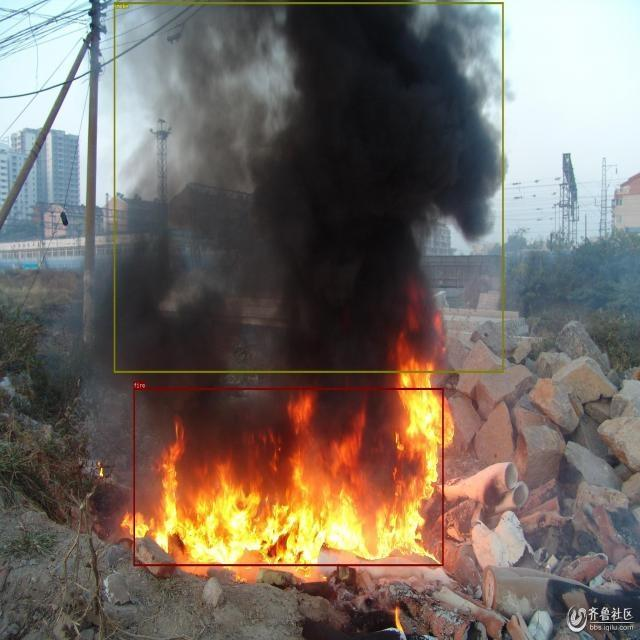fire: (134, 388, 444, 566)
smoke: (114, 2, 503, 372)
